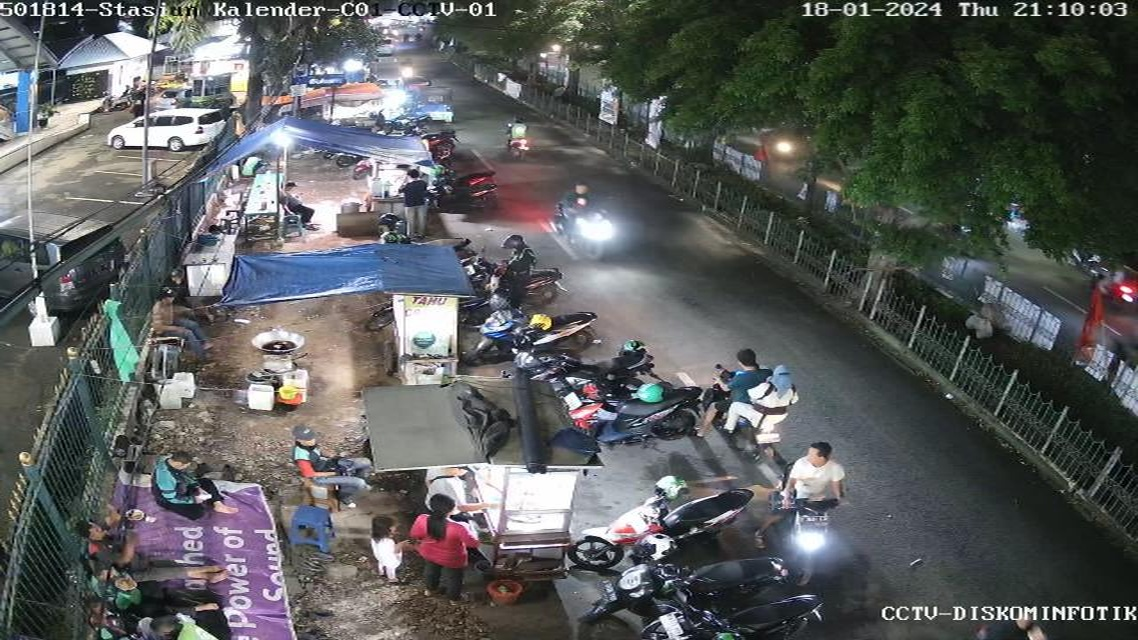Gerobak: (345, 384, 594, 604), (461, 463, 591, 571), (389, 291, 464, 388), (365, 162, 432, 234)
